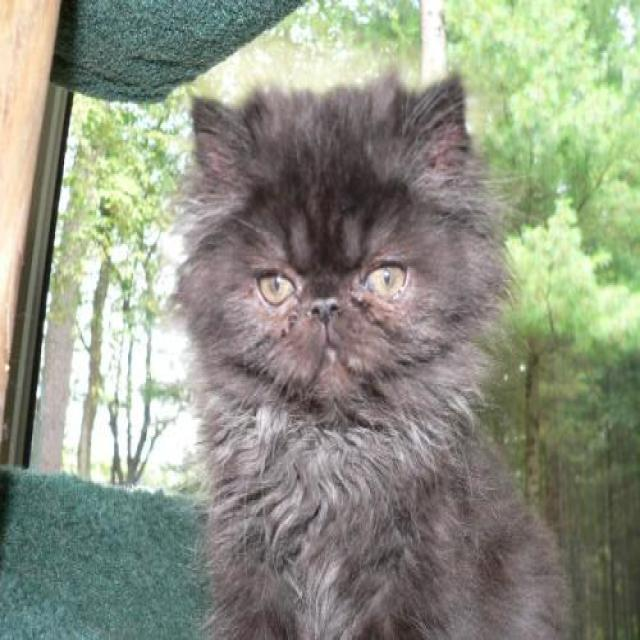Cats: (167, 69, 578, 638)
